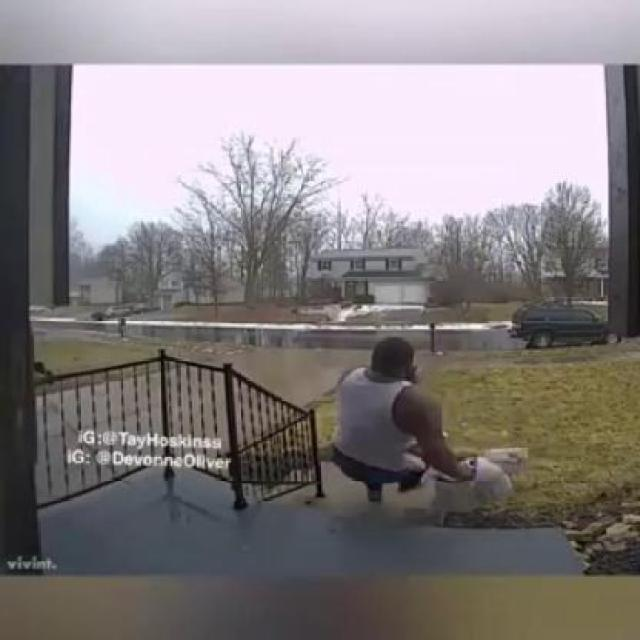fall: (325, 338, 473, 494)
